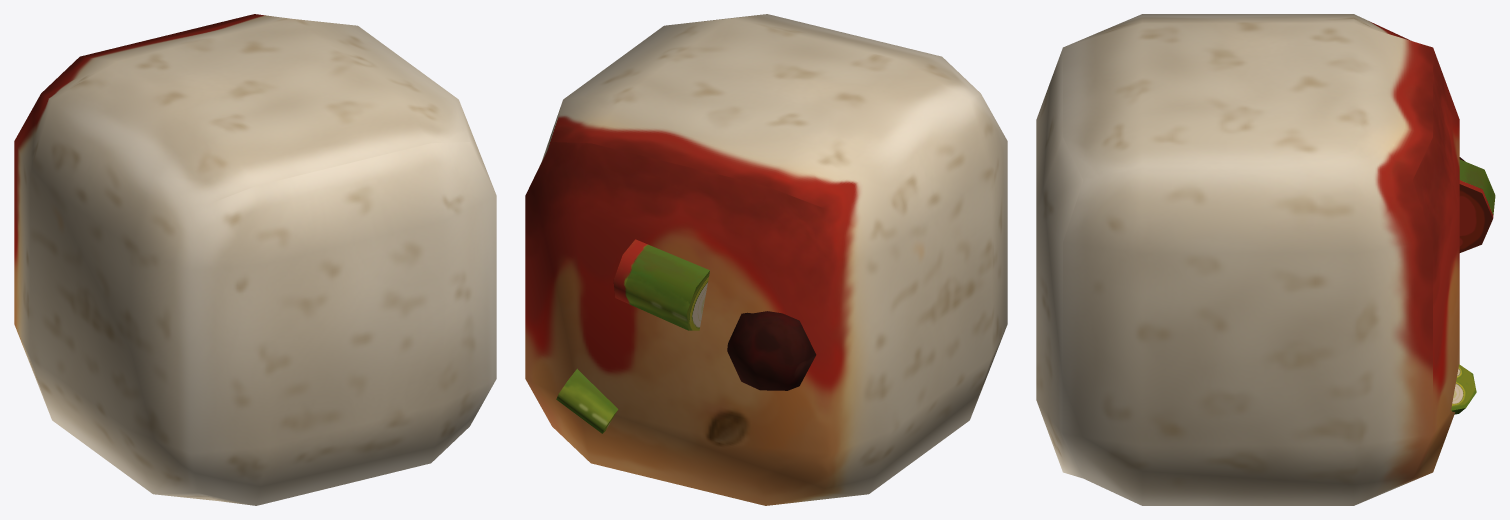
The model's file is DubuBullet.FBX.
The picture shows the model from 3 angles, left to right: view 1: azimuth 30°, elevation 25°; view 2: azimuth 150°, elevation 25°; view 3: azimuth 270°, elevation 25°; orthographic projection. The views are drawn at different scales.
Visible parts, largest first — view 1: DbBullet; view 2: DbBullet; view 3: DbBullet.
Boxes of the visible parts, x1=… form: DbBullet: x1=14, y1=14, x2=496, y2=505; DbBullet: x1=525, y1=14, x2=1007, y2=505; DbBullet: x1=1036, y1=14, x2=1495, y2=505.
Size of the model in its own units: 0.103 by 0.103 by 0.1118.
